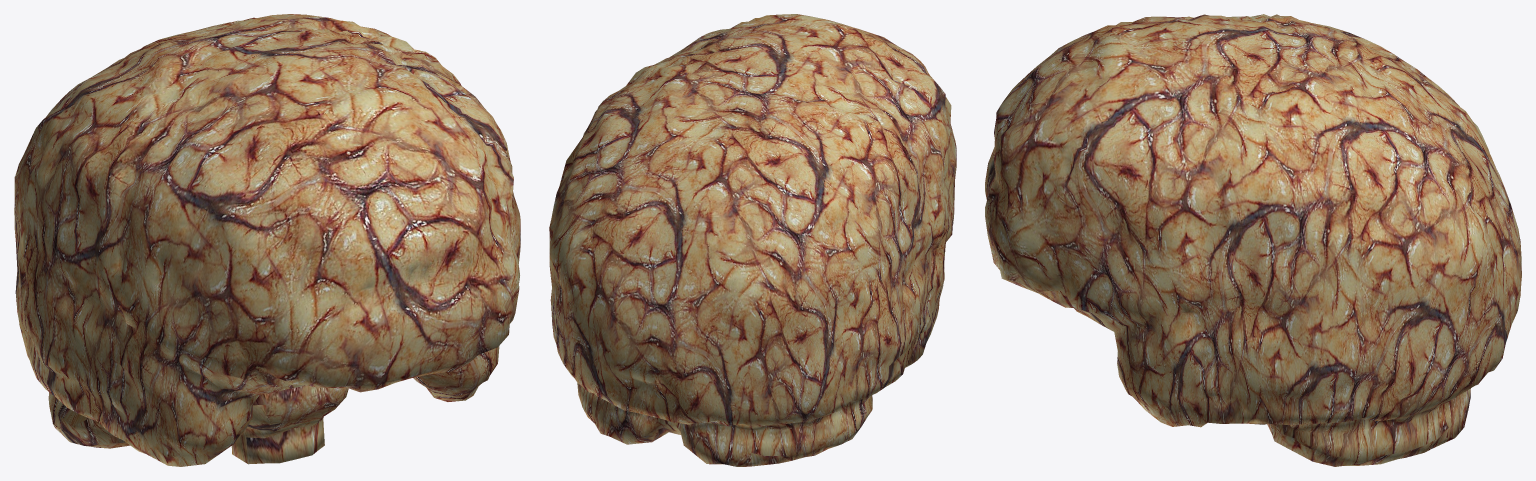
File: brain.FBX
3 views of the same model, side by side, from view 1: azimuth 30°, elevation 25°; view 2: azimuth 150°, elevation 25°; view 3: azimuth 270°, elevation 25° (orthographic). The views are drawn at different scales.
Visible parts, largest first — view 1: brain003; view 2: brain003; view 3: brain003.
Part boxes in pixels (x1,y1,x2,y2): brain003: (14,14,520,466); brain003: (549,14,956,466); brain003: (985,14,1521,466).
Size of the model in its own units: 1.22 by 1.19 by 1.54.
1 material, 1 textured.
